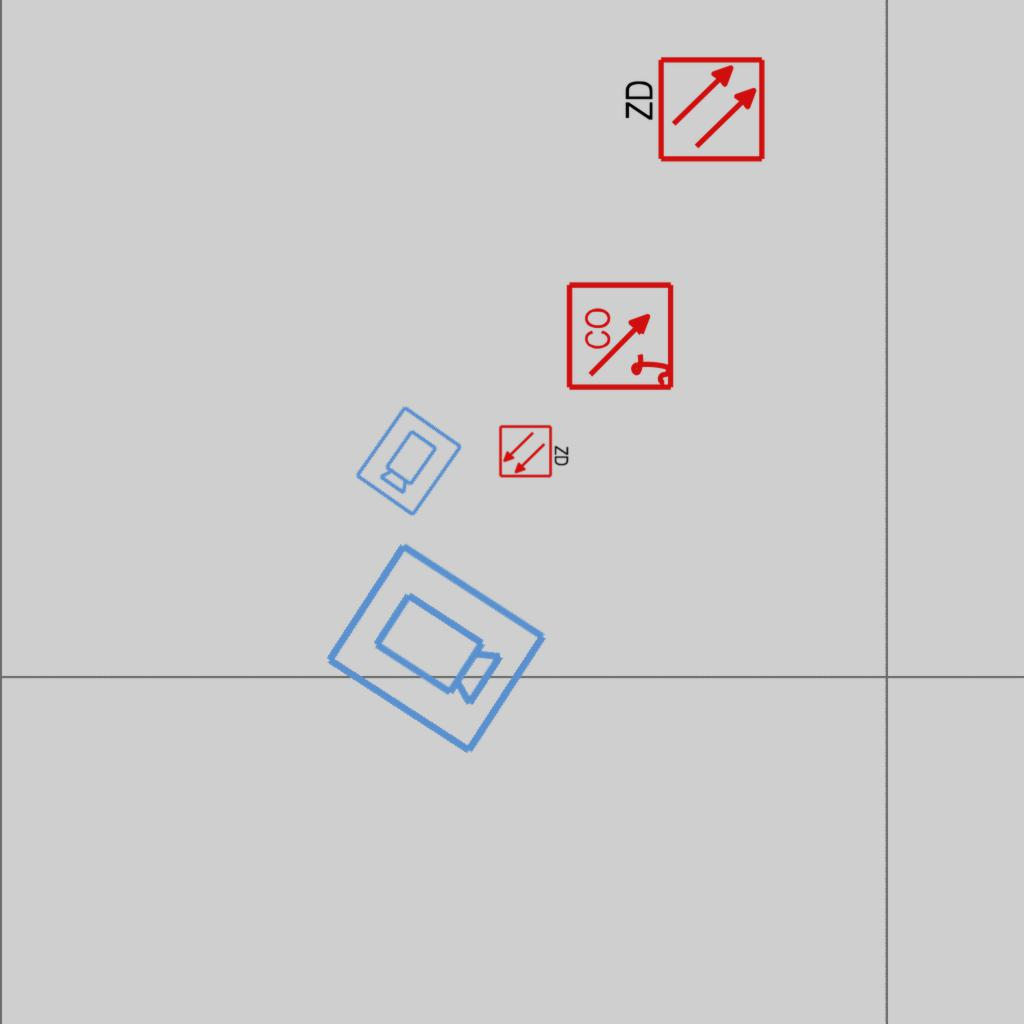KFO_Kamera_mit_Festobjektiv: (316, 534, 554, 764), (350, 401, 467, 520)
ROA_Rauchmelder_optisch_mit_Signalgeber_(Sockelsirene): (565, 279, 678, 392)
ZD_Melder_in_Zwischendecke_mit_Revisionsoeffnung_mind_40_x_40_cm: (618, 54, 767, 168), (498, 422, 572, 479)
